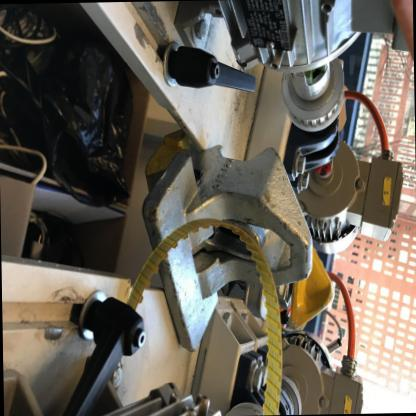Twistlock: (136, 126, 312, 368), (244, 246, 346, 338)
